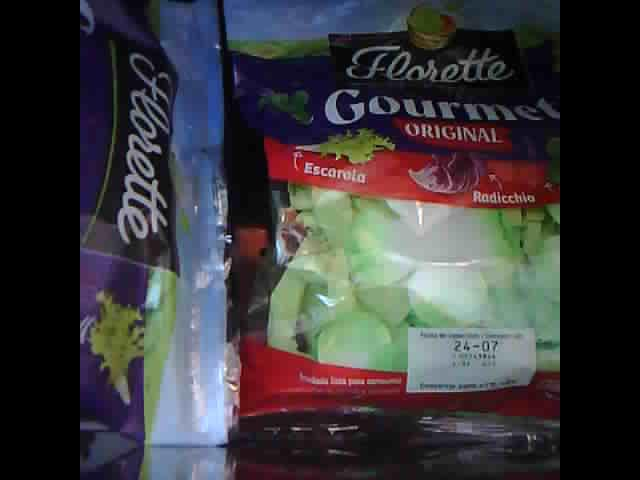florette: (222, 1, 559, 447), (79, 1, 235, 451)
